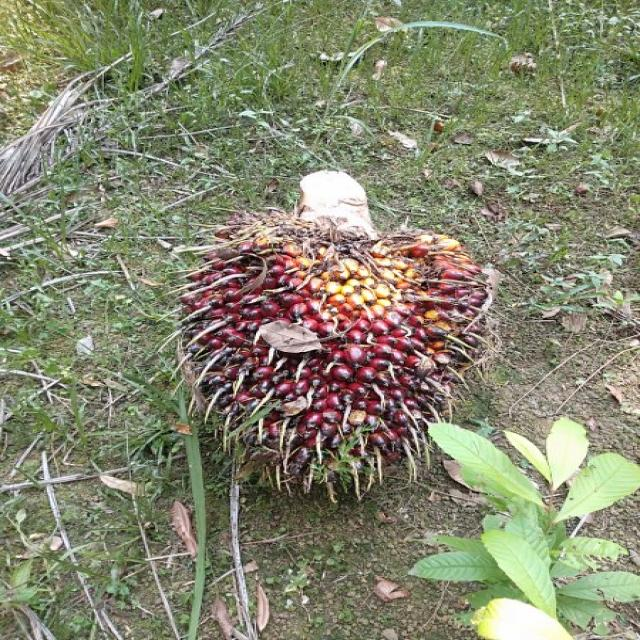fraksi 1: (190, 230, 490, 480)
